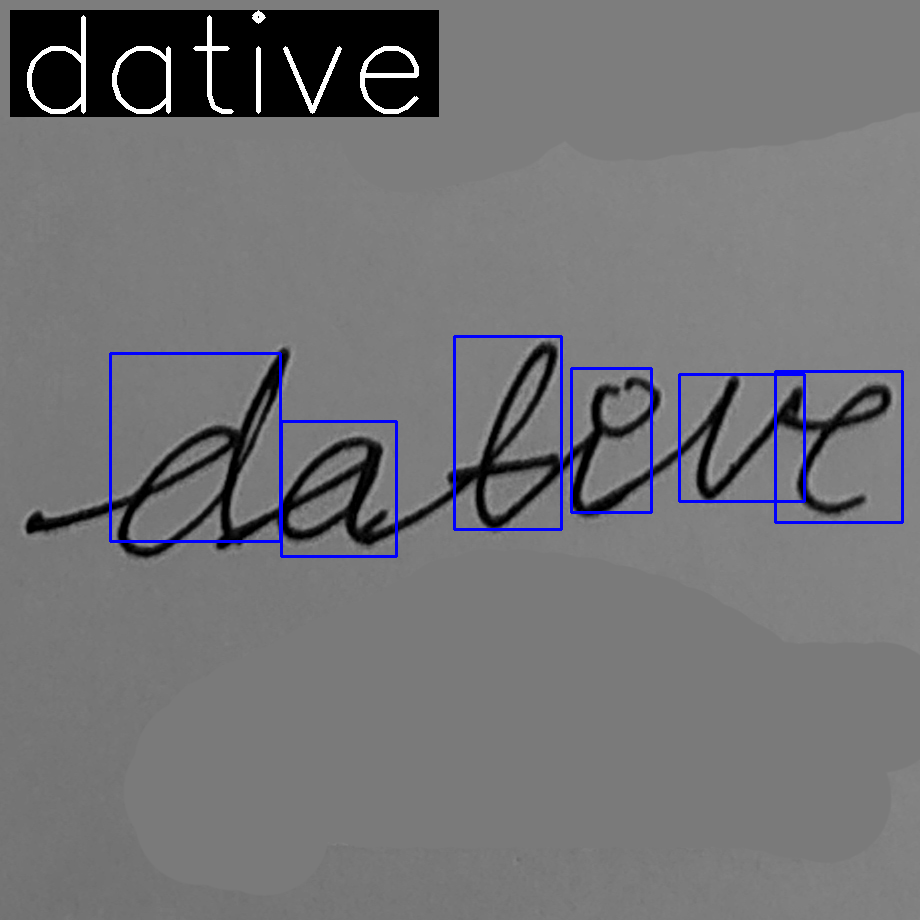a: (274, 432, 388, 546)
d: (115, 344, 292, 560)
e: (793, 377, 894, 516)
i: (568, 373, 665, 520)
t: (444, 338, 562, 532)
v: (692, 372, 805, 505)
